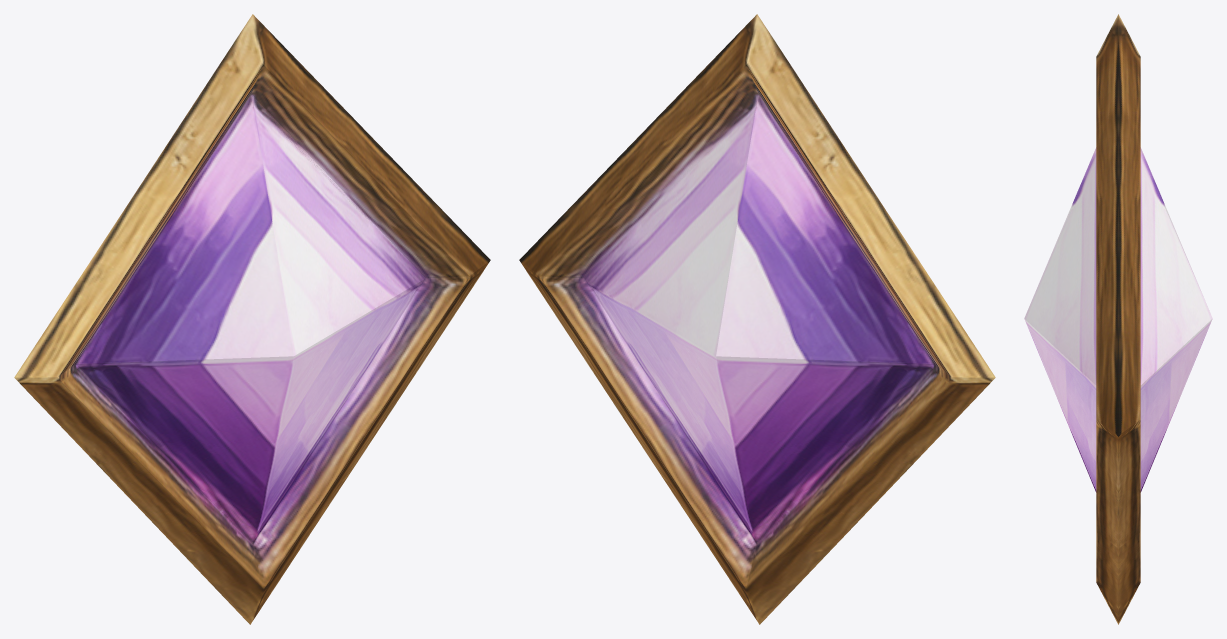
The model's file is Diamond Gem.glb.
The picture shows the model from 3 angles, left to right: view 1: azimuth 30°, elevation 25°; view 2: azimuth 150°, elevation 25°; view 3: azimuth 270°, elevation 25°; orthographic projection.
Visible parts, largest first — view 1: Object_4.002; view 2: Object_4.002; view 3: Object_4.002.
Part boxes in pixels (box(x1,y1,x2,y2)): Object_4.002: box(14, 14, 490, 624); Object_4.002: box(519, 14, 995, 624); Object_4.002: box(1024, 14, 1212, 624).
Size of the model in its own units: 1.85 by 2.26 by 0.6312.
Materials: 1 (1 with a texture image).
